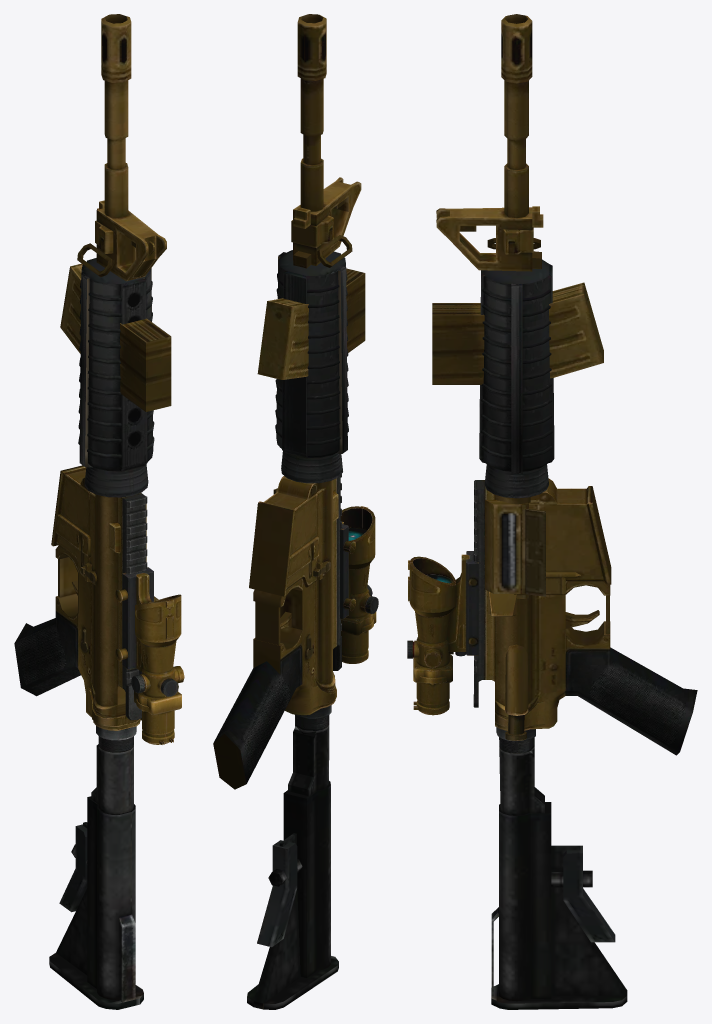
The model's file is M4A1_Gold.obj.
3 renders of one model, left to right at view 1: azimuth 30°, elevation 25°; view 2: azimuth 150°, elevation 25°; view 3: azimuth 270°, elevation 25°, orthographic. The views are drawn at different scales.
Visible parts, largest first — view 1: Part_4, Part_1, Part_3; view 2: Part_4, Part_3, Part_1; view 3: Part_4, Part_1, Part_3.
Boxes of the visible parts, x1,y1,x2,y2 form: Part_4: (14,14,166,1009); Part_1: (115,567,184,744); Part_3: (60,263,171,411); Part_4: (213,14,361,1009); Part_3: (257,268,365,379); Part_1: (340,506,378,663); Part_4: (436,14,697,1009); Part_1: (407,551,478,715); Part_3: (432,282,603,384).
Size of the model in its own units: 0.0679 by 0.8631 by 0.2316.
2 materials, 2 textured.
